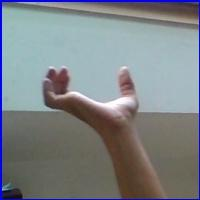B: (34, 59, 145, 137)
